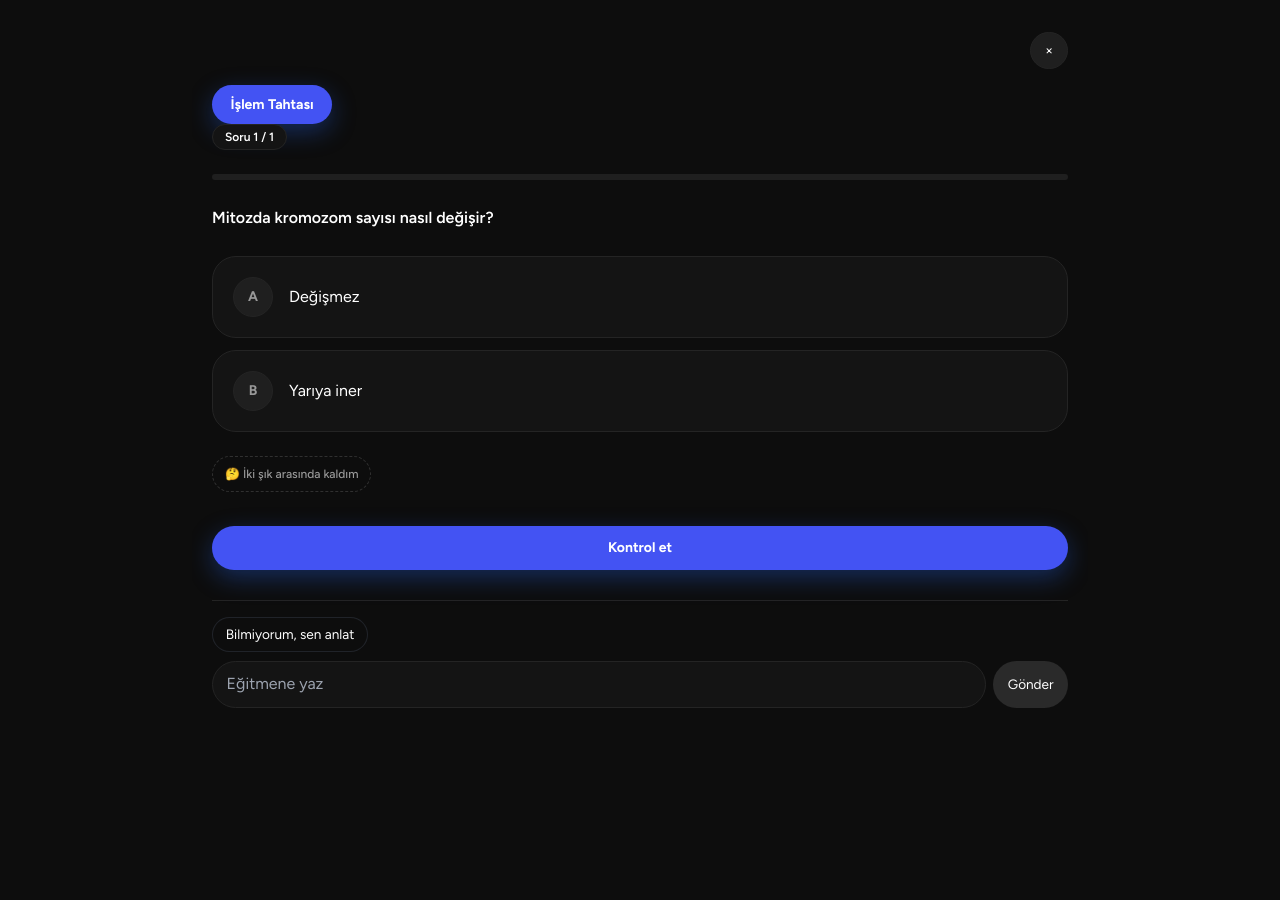
Test: bitirme › test: sonuç hemen görünür, bitirme isteği arkada; yıldız ve yenileme yanıtla gelir
Expected: the text "Mitozda kromozom sayısı nasıl değişir?" is shown, [212, 208, 494, 227]
Click the button "A Değişmez". click: (253, 297)
box: [212, 256, 1068, 338]
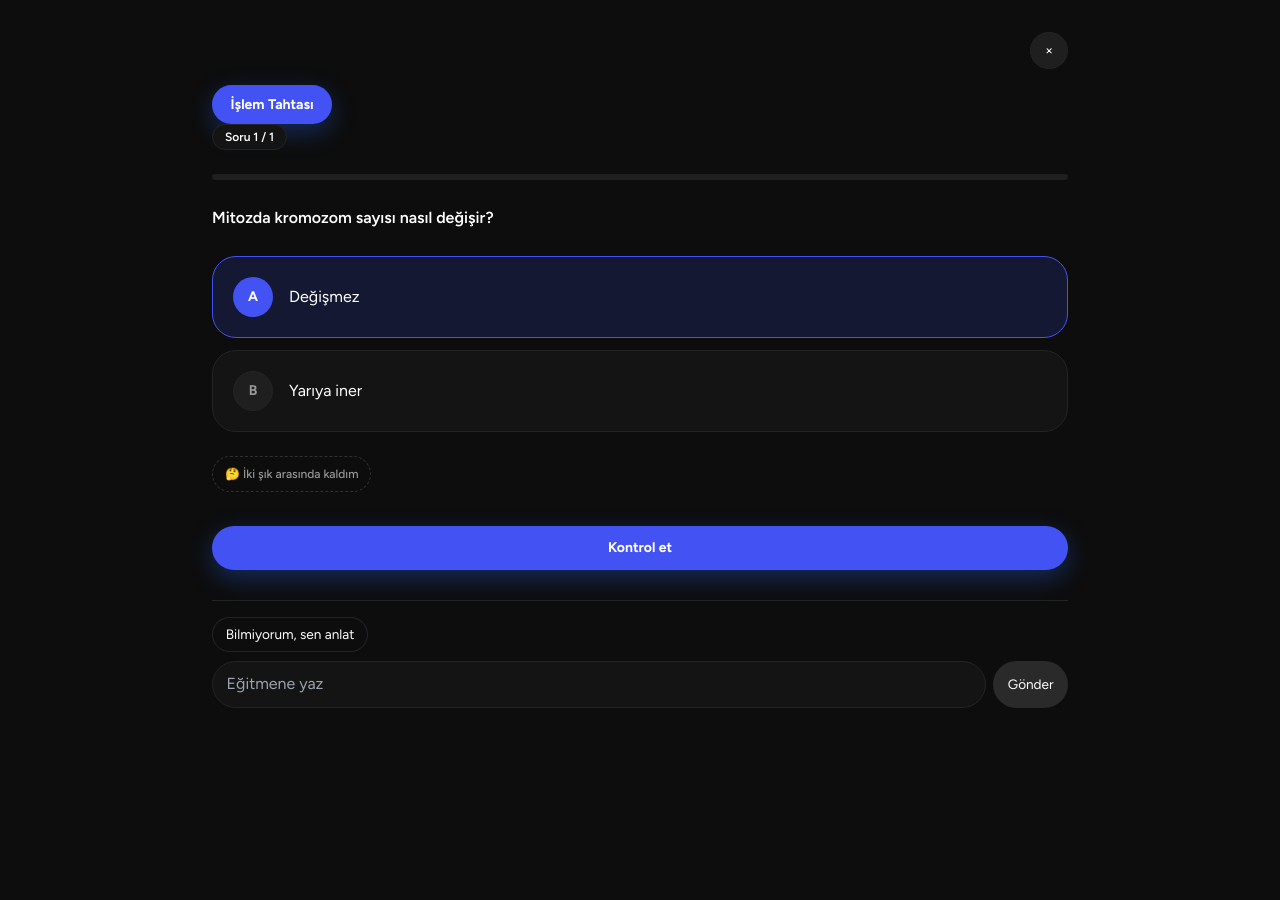
Click the button "Kontrol et". click: (640, 548)
box: [212, 526, 1068, 570]
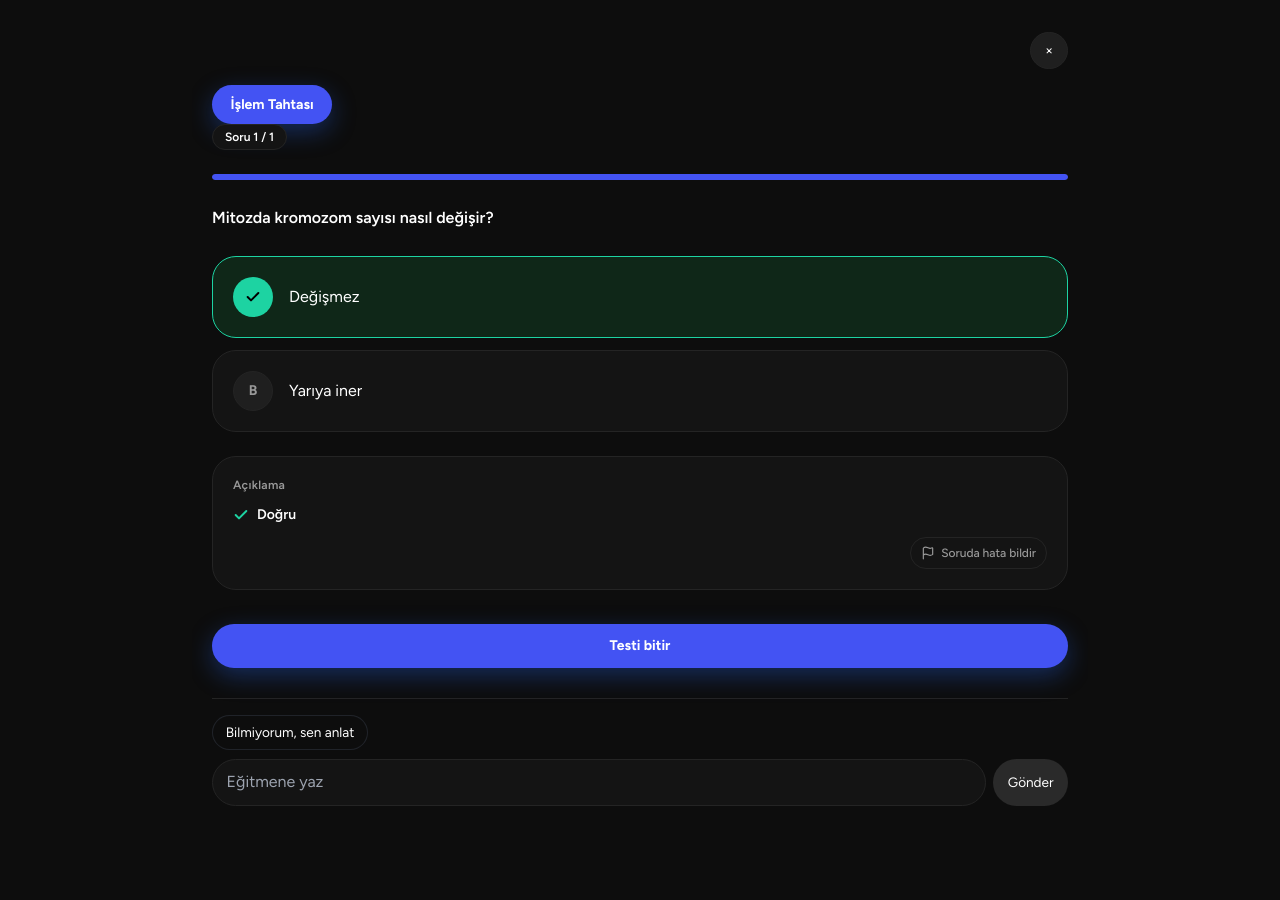
Click the button "Testi bitir". click: (640, 646)
box: [212, 624, 1068, 668]
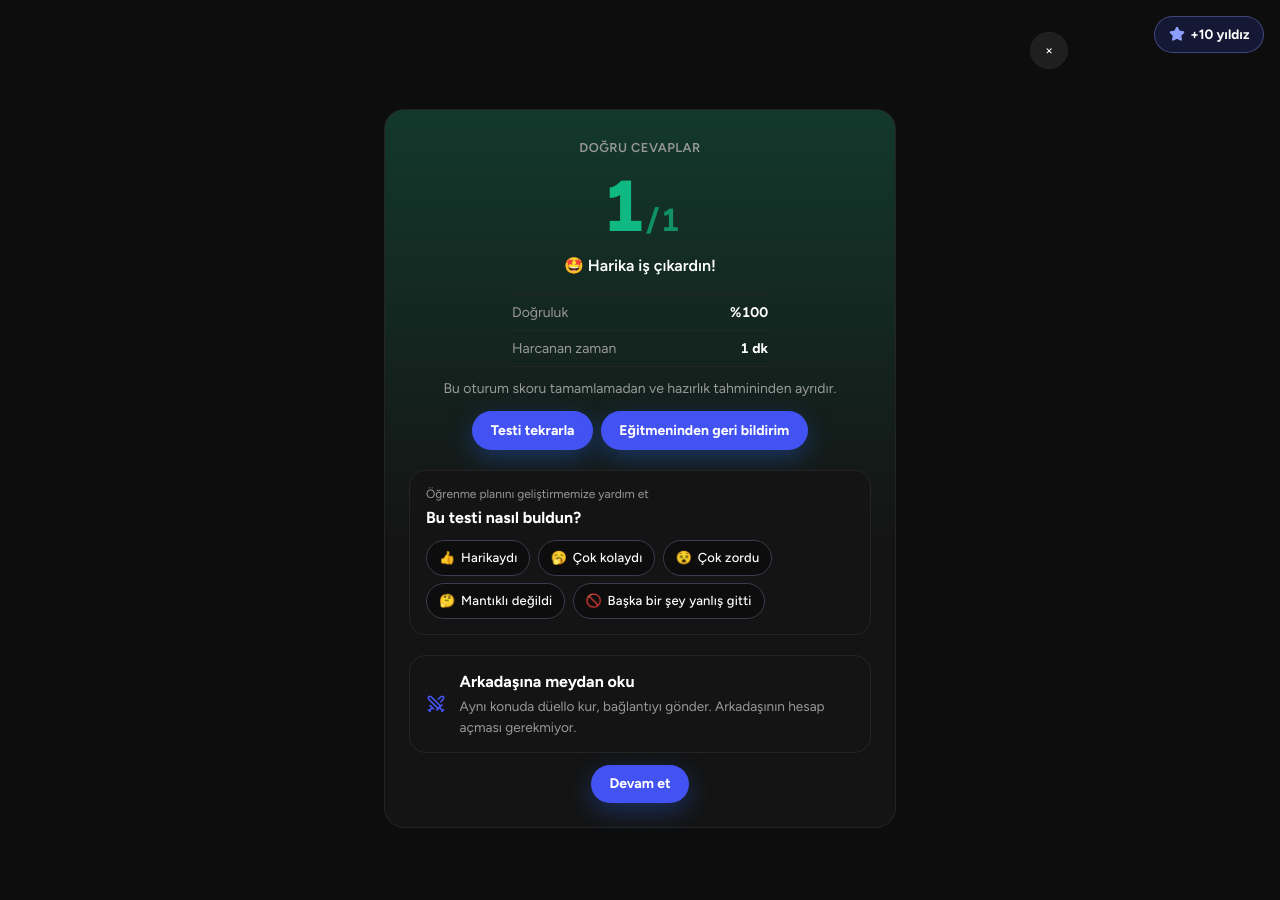
Now the element named "1 sorudan 1 doğru" is shown, box [600, 170, 680, 242]
Now the text "+10 yıldız" is shown, box [1154, 16, 1264, 53]
